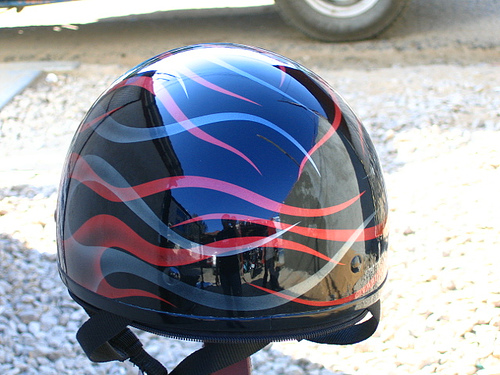helmet: (68, 43, 387, 324)
